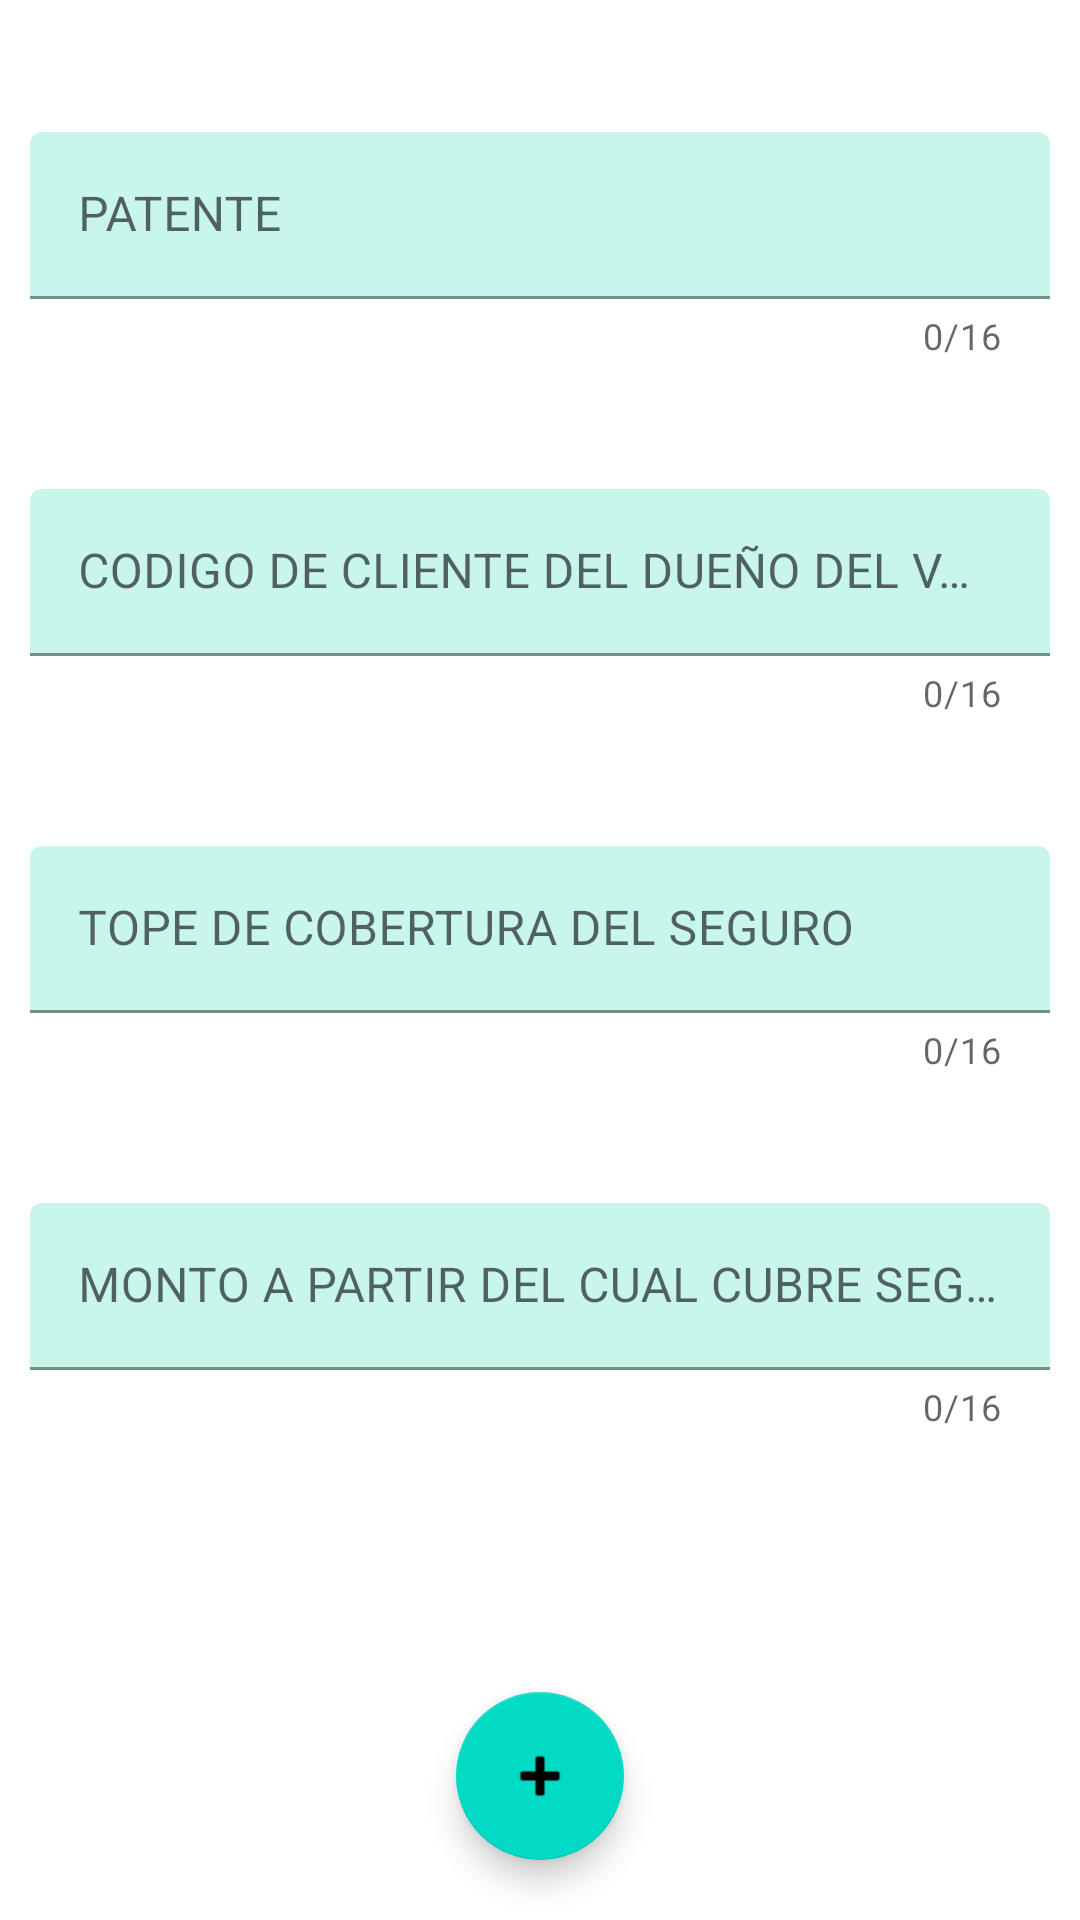

Icon bounding boxes for this 1080*1920 phone screenshot, format bbox=[x1, y1, x2, y2]:
add: bbox=[456, 1692, 624, 1860]
